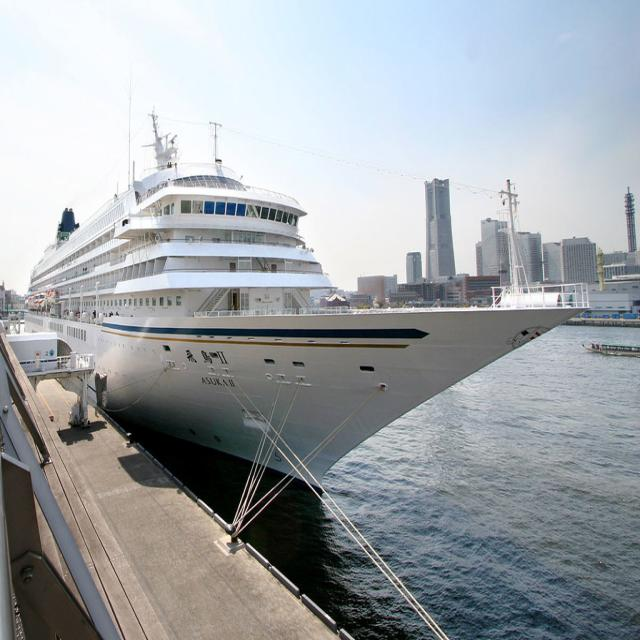Boat: (22, 91, 555, 563)
